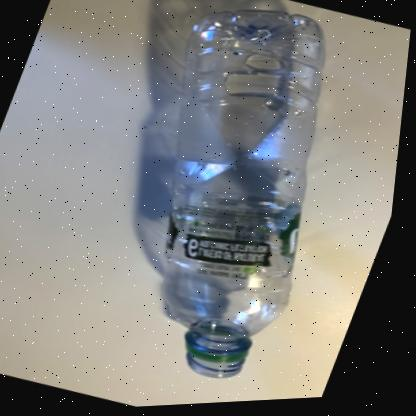Plastic: (169, 13, 327, 381)
